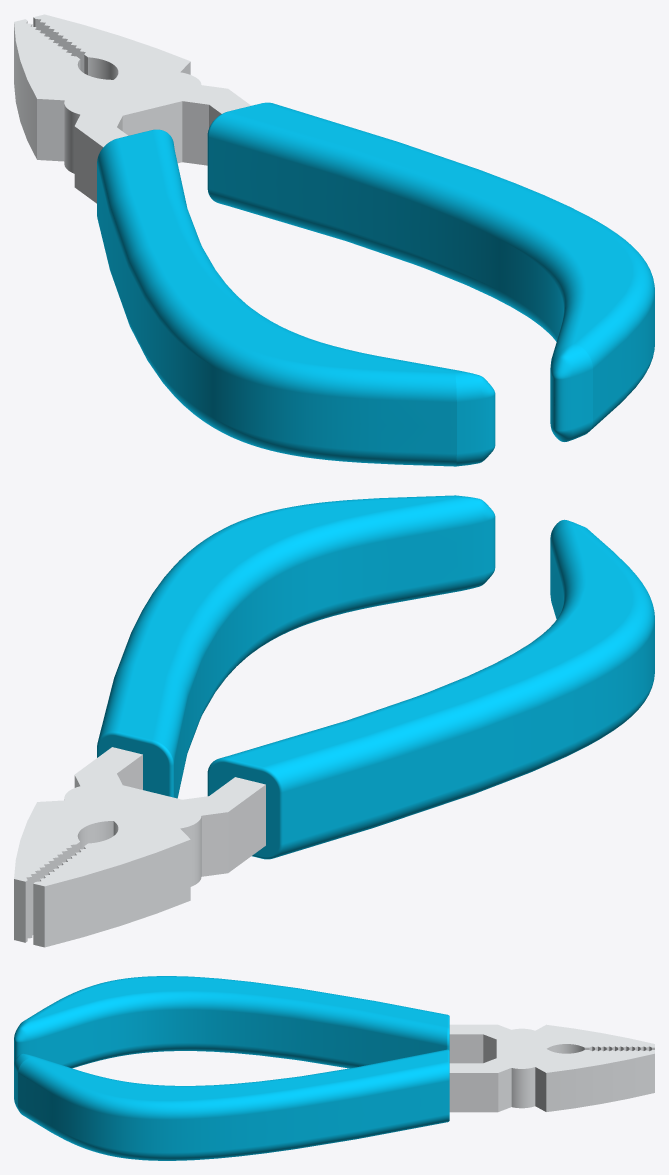
The model's file is Pliers.glb.
3 views of the same model, one above another, from view 1: azimuth 30°, elevation 25°; view 2: azimuth 150°, elevation 25°; view 3: azimuth 270°, elevation 25° (orthographic). The views are drawn at different scales.
Bounding box in the file's own units: 0.074 × 0.015 × 0.1479.
